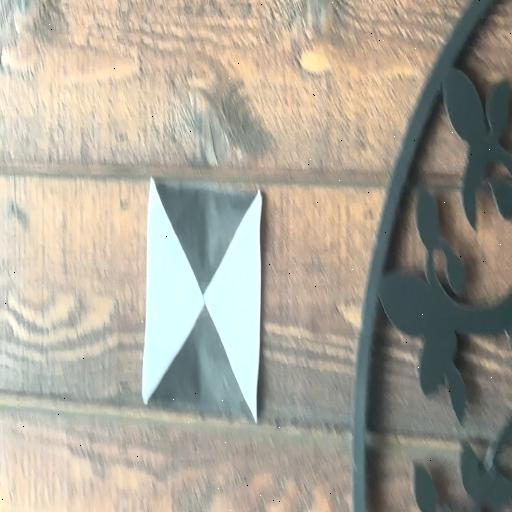target: (142, 179, 263, 420)
